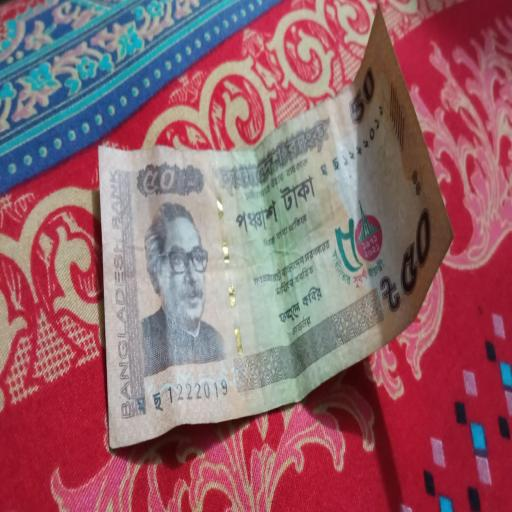50taka: (97, 11, 453, 449)
